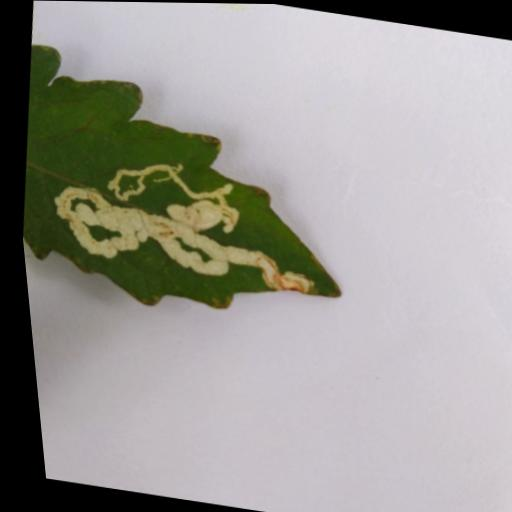Leaf_Miner: (3, 41, 369, 336)
